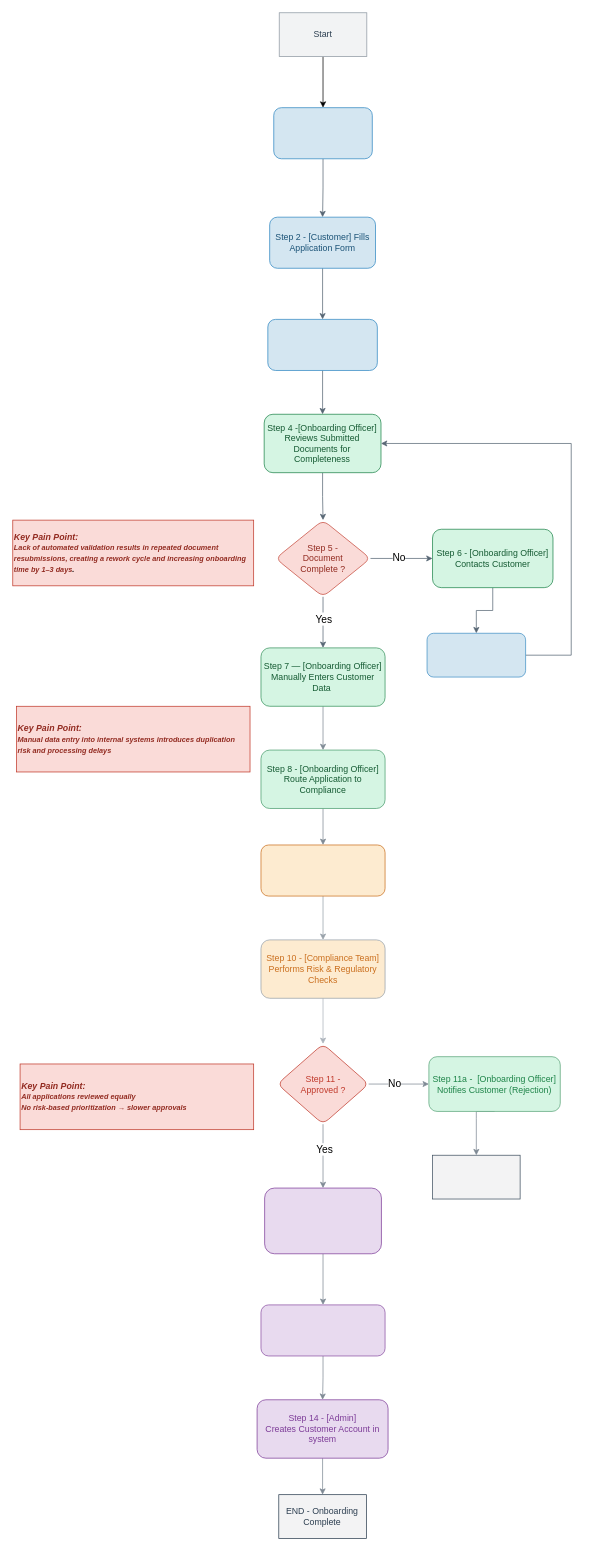
Some shapes in this 590 by 1551 pixel diagram are drawn without their labels. The shapes that lost their labels are listed below. From the top down, each one's centre as x and y in pixels, then its label:
the point at 322,133: Step 1 - [Customer] Visits Branch or Portal to Initiate Application
the point at 322,344: Step 3 - [Customer] Submits Documents
the point at 476,655: Step 6a - [Customer] Resubmits Documents
the point at 322,870: Step 9 - [Compliance Team] Review Application
the point at 476,1176: END - Application Rejected
the point at 322,1220: Step 12 - [Admin] Creates Customer Account
the point at 322,1330: Step 13 — [System] Sends Account Confirmation to Customer
